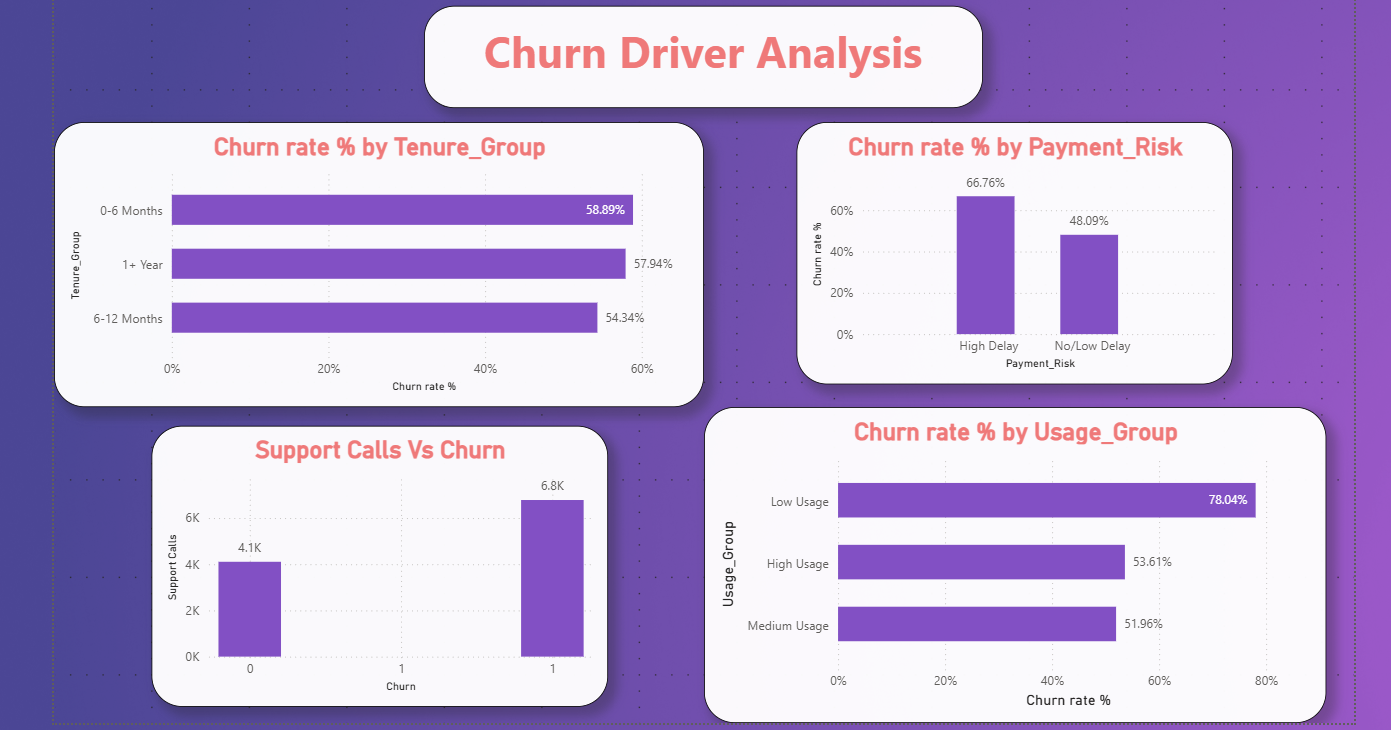

Layout of this report page (visuals, bound fields, positions):
{"tool":"powerbi","page":{"name":"Page 2","canvas":[1280,720],"ordinal":1},"visuals":[{"type":"textbox","box":[364.3,13.5,550.2,100.9],"z":0},{"type":"barChart","fields":{"Y":["churnanalysis.Churn rate %"],"Category":["churnanalysis.Tenure_Group"]},"box":[0,128,640,280.6],"z":1000},{"type":"barChart","fields":{"Y":["churnanalysis.Churn rate %"],"Category":["churnanalysis.Usage_Group"]},"box":[640,408.6,612.9,311.4],"z":2000},{"type":"columnChart","title":"Support Calls Vs Churn","fields":{"Category":["churnanalysis.Churn_flag"],"Y":["Sum(churnanalysis.support_tickets)"]},"box":[96,427.1,449.2,276.9],"z":3000},{"type":"clusteredColumnChart","fields":{"Category":["churnanalysis.Payment_Risk"],"Y":["churnanalysis.Churn rate %"]},"box":[731.1,128,429.5,258.5],"z":4000}]}

Visuals, with their boxes in screenshot pixels (x1, y1, x2, y2):
textbox: x1=427, y1=10, x2=978, y2=111
barChart - churnanalysis.Churn rate % x churnanalysis.Tenure_Group: x1=62, y1=125, x2=703, y2=406
barChart - churnanalysis.Churn rate % x churnanalysis.Usage_Group: x1=703, y1=406, x2=1317, y2=718
"Support Calls Vs Churn" columnChart: x1=158, y1=424, x2=608, y2=702
clusteredColumnChart - churnanalysis.Payment_Risk x churnanalysis.Churn rate %: x1=794, y1=125, x2=1225, y2=384
